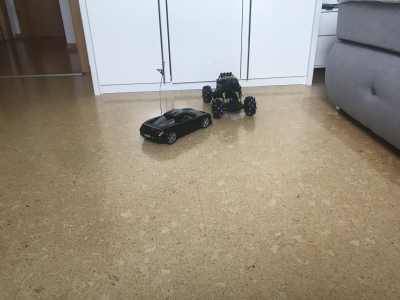remote control car: (199, 69, 260, 118)
